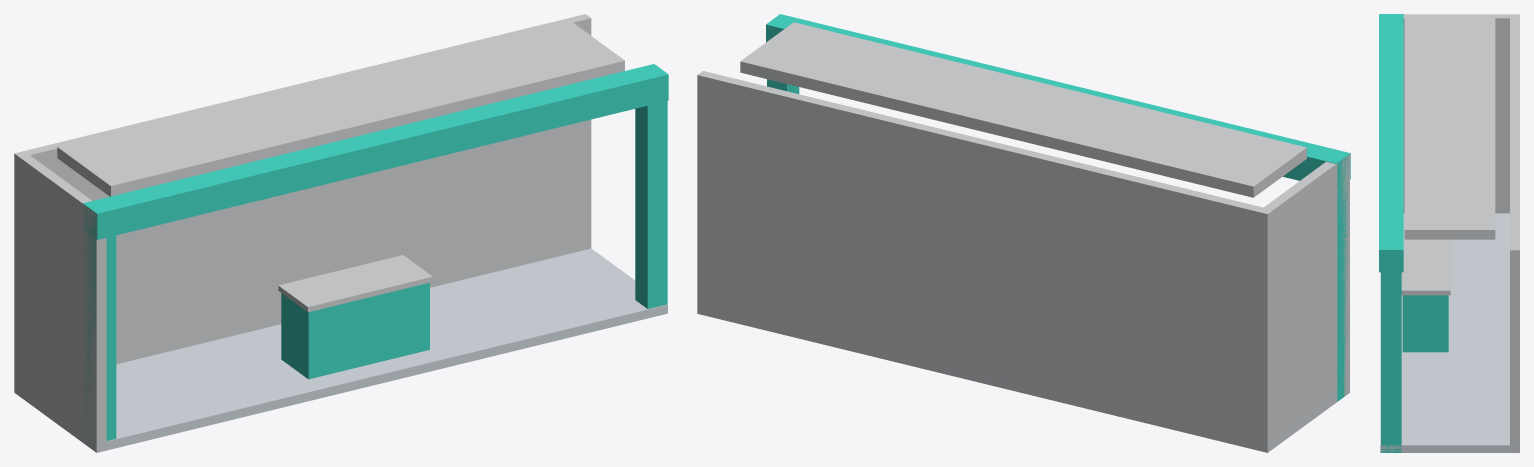
3 views of the same model, side by side, from view 1: azimuth 30°, elevation 25°; view 2: azimuth 150°, elevation 25°; view 3: azimuth 270°, elevation 25° (orthographic). The views are drawn at different scales.
Parts seen in each view (by area): view 1: Exhibition Booth Concept; view 2: Exhibition Booth Concept; view 3: Exhibition Booth Concept.
Part boxes in pixels (x1,y1,x2,y2): Exhibition Booth Concept: [14, 14, 668, 452]; Exhibition Booth Concept: [697, 14, 1350, 452]; Exhibition Booth Concept: [1379, 14, 1519, 452].
Size of the model in its own units: 8 by 3.34 by 2.01.
